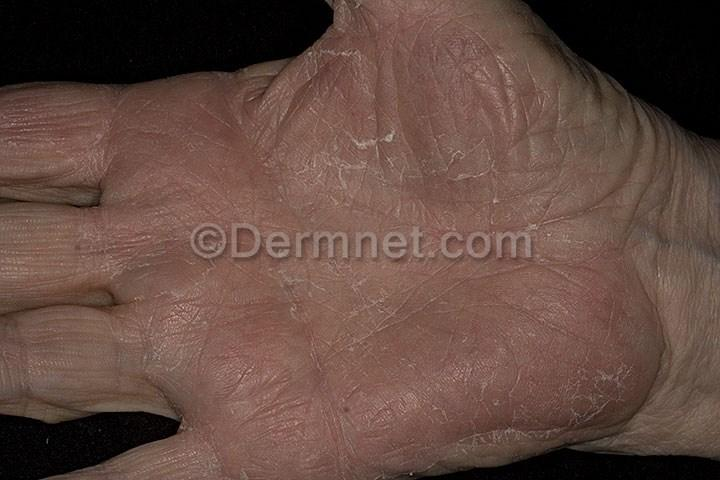Eczema: (292, 44, 557, 216), (455, 348, 654, 446), (262, 261, 432, 363)
